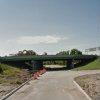Bridge: (5, 46, 89, 77)
